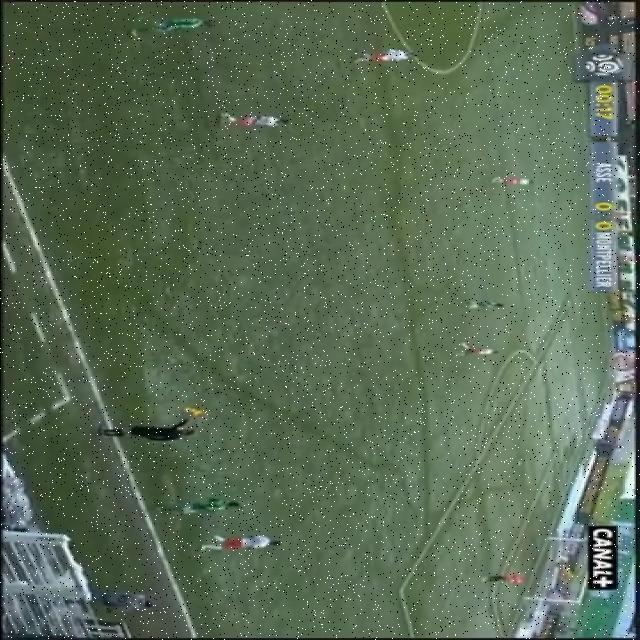goalkeeper: (444, 570, 548, 598)
player: (180, 87, 335, 147), (113, 6, 248, 50), (186, 528, 309, 568), (130, 491, 258, 519), (345, 38, 433, 74), (421, 338, 517, 370), (431, 294, 517, 324), (471, 170, 553, 198)
referee: (88, 407, 218, 452)
